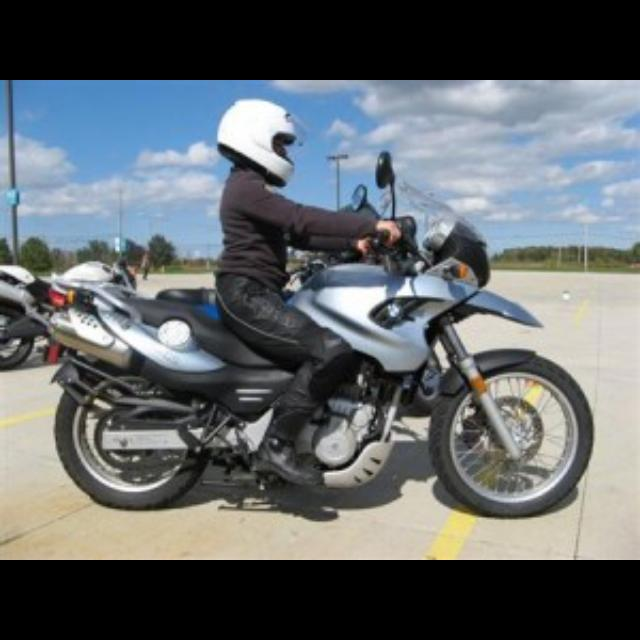With Helmet: (205, 93, 312, 191)
